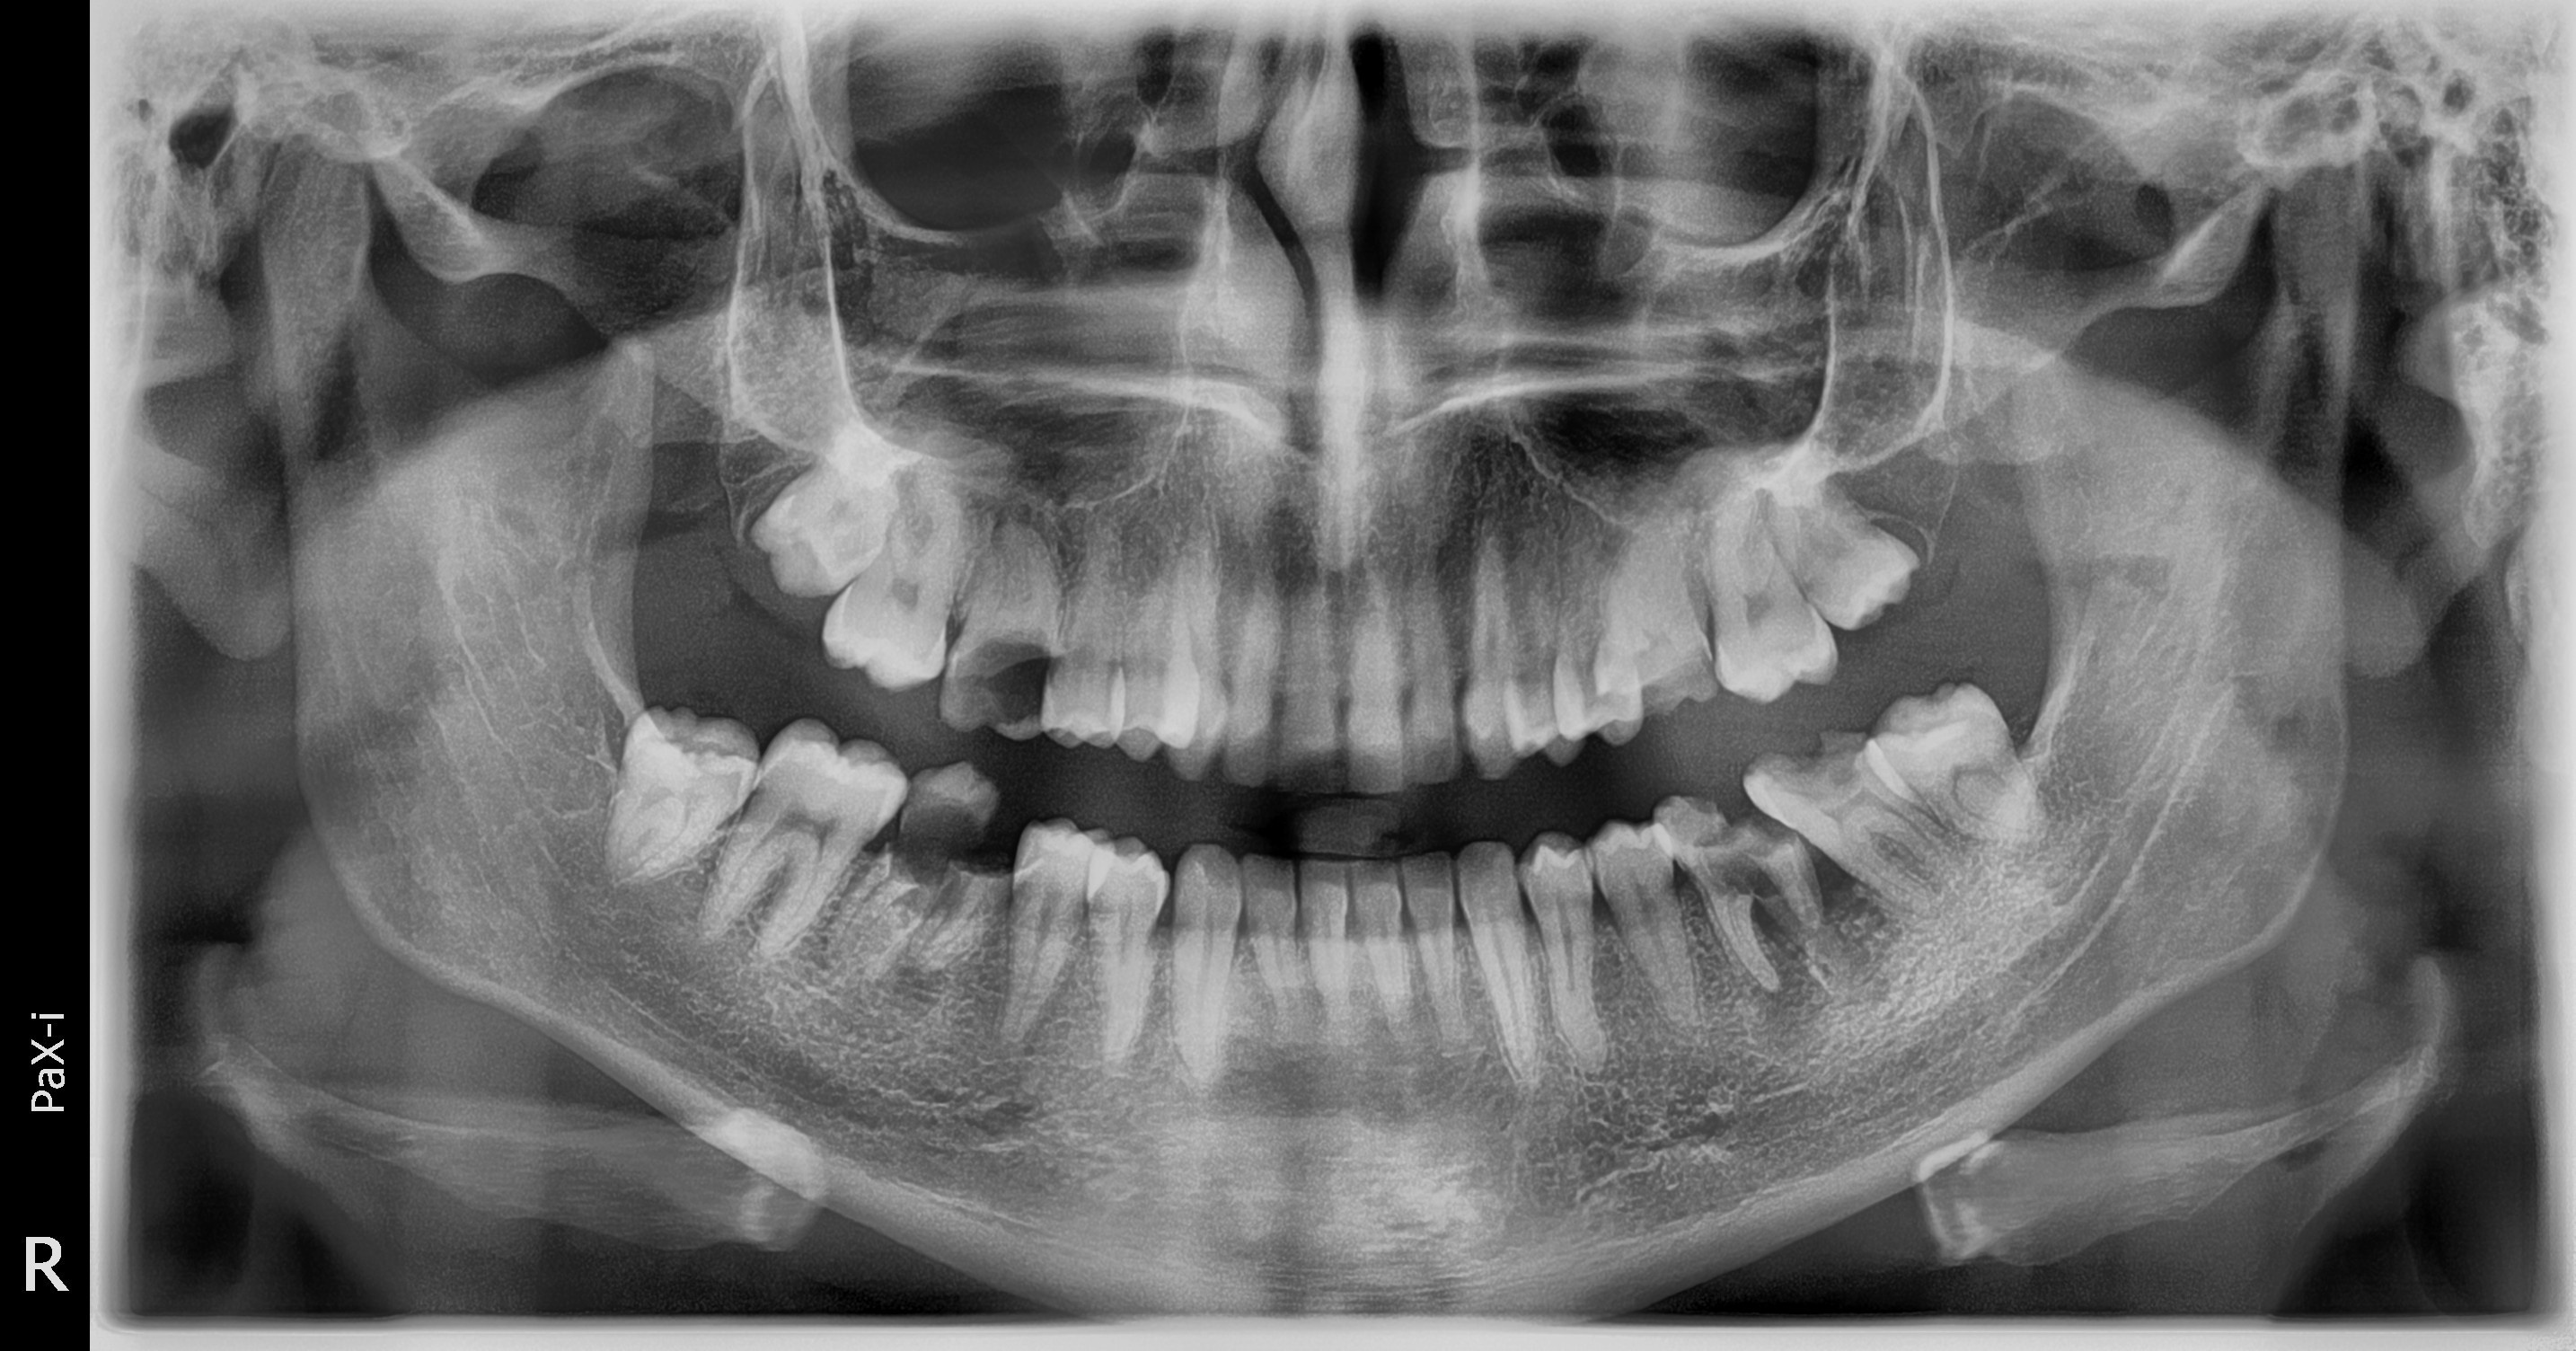API: (993, 503, 1058, 566)
CAR: (956, 629, 1058, 722)
FUR: (1751, 898, 1804, 961)
IMT: (746, 440, 898, 598)
